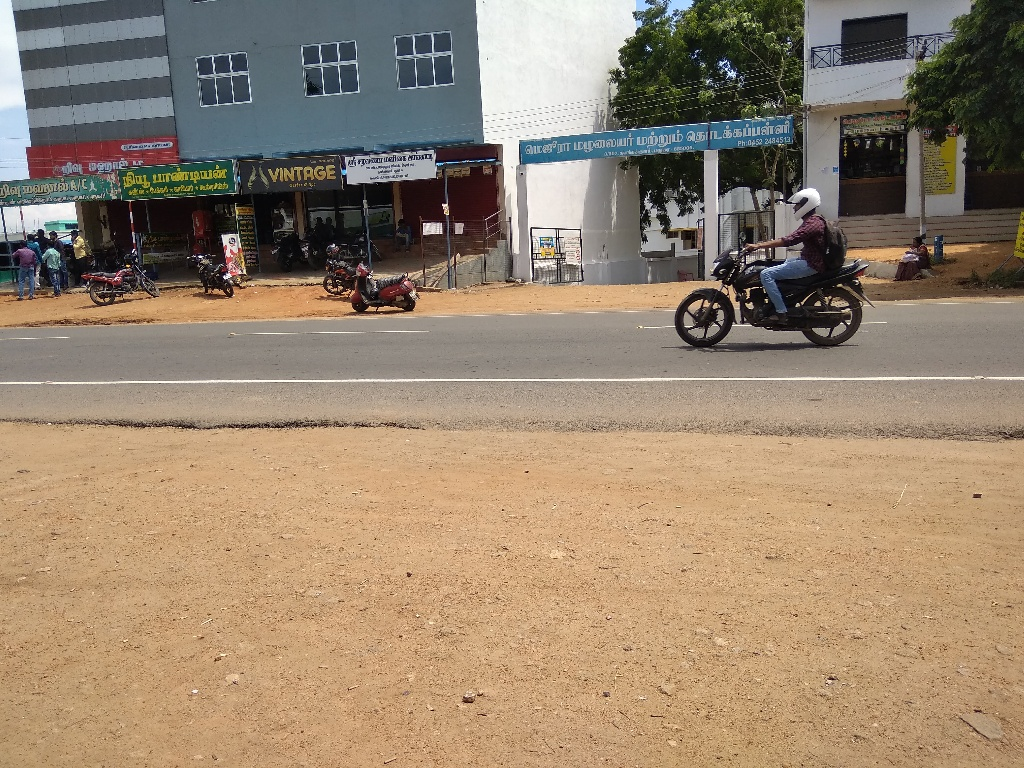biker: (665, 152, 883, 355)
helmet: (780, 177, 827, 231)
